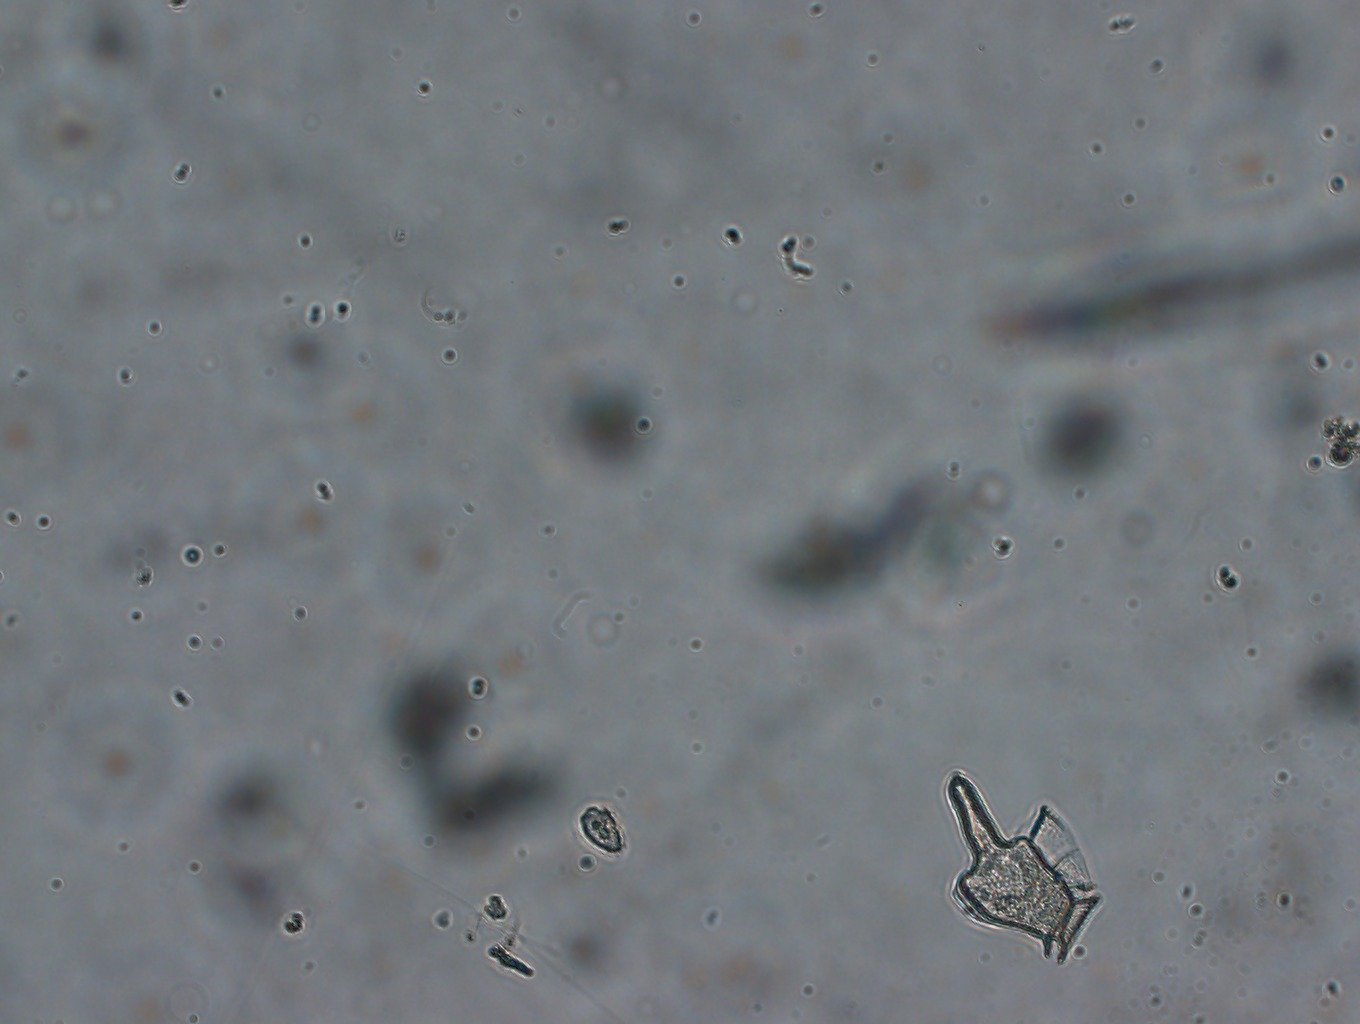dinophysis caudata: (930, 749, 1114, 975)
